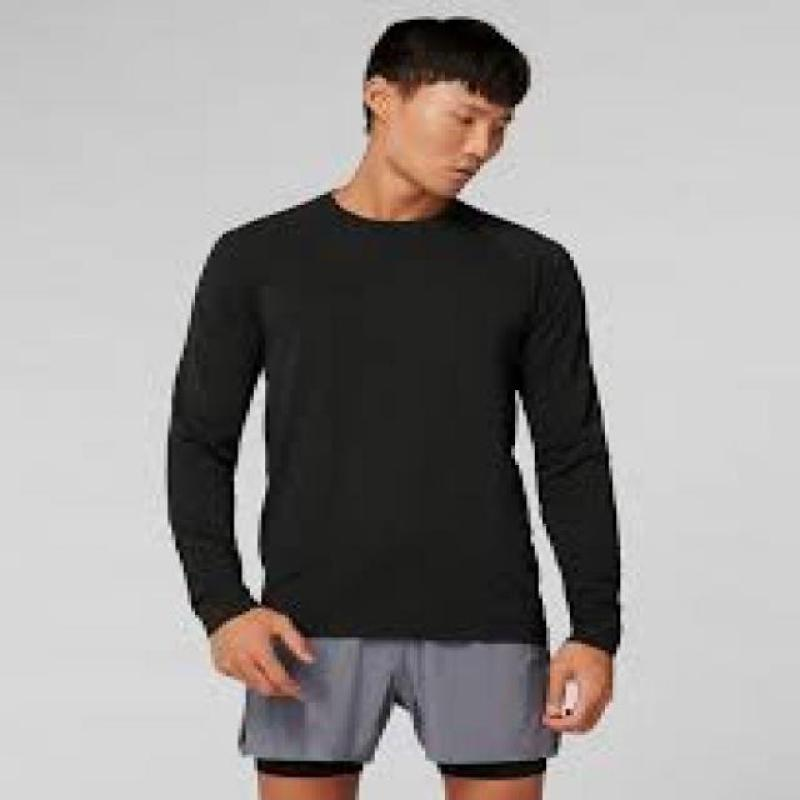Shorts: (238, 639, 558, 780)
long sleeve shirt: (159, 183, 627, 667)
